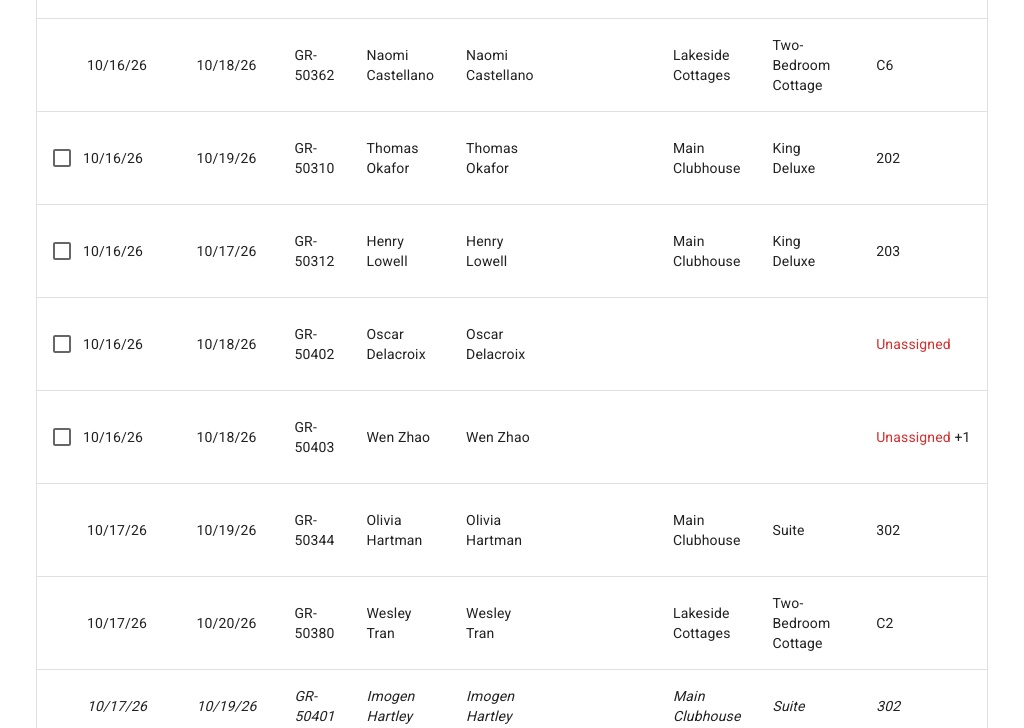
Scenario: floating check-in bar › floats fixed at the bottom, centred, above the table and below dialogs; follows the selection
(page scrolled)
What coordinates should you click on to do the following:
click the checkbox named "Select reservation GR-50402"
I would click on:
 (62, 344)
Its box is [50,332,74,356].
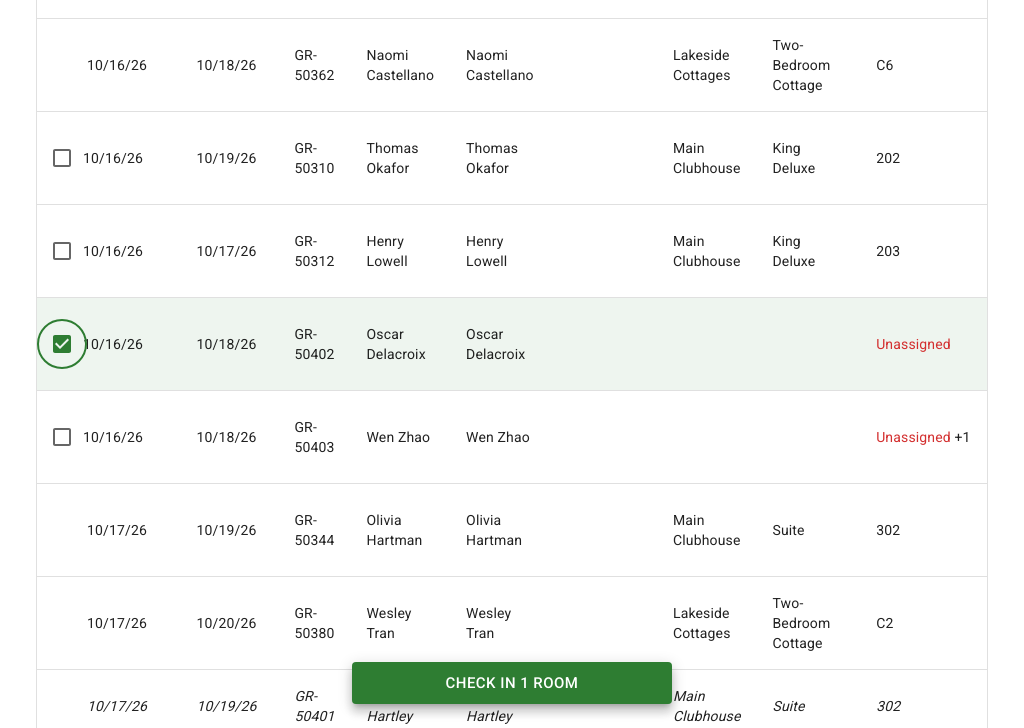
Expected: the button "CHECK IN 1 ROOM" is enabled, [352,662,672,704]
What coordinates should you click on to do the following:
click the checkbox named "Select reservation GR-50402"
I would click on:
 (62, 344)
Its box is [50,332,74,356].
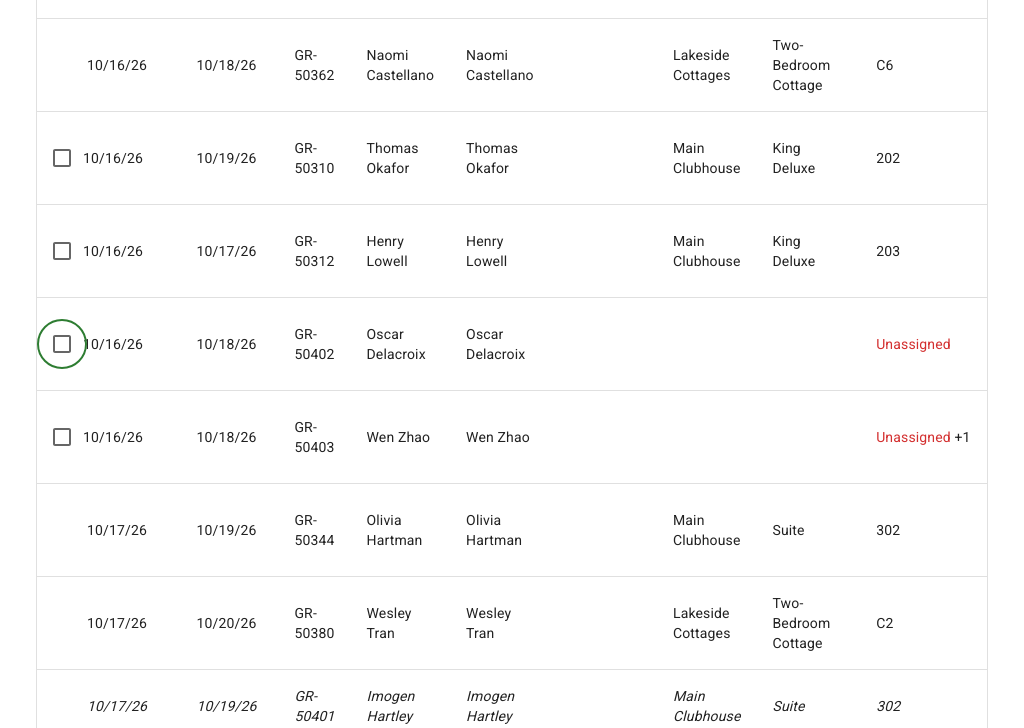
Expected: the element with test id "bulk-check-in-bar" is gone
